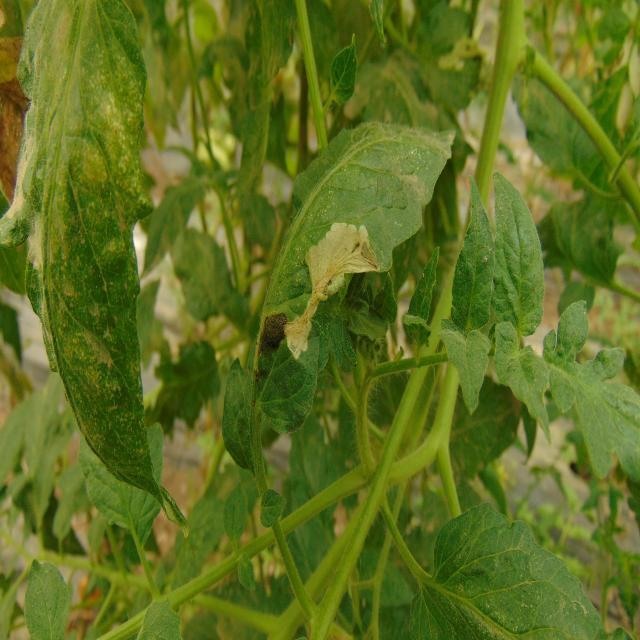Tuta absoluta: (249, 209, 394, 360)
